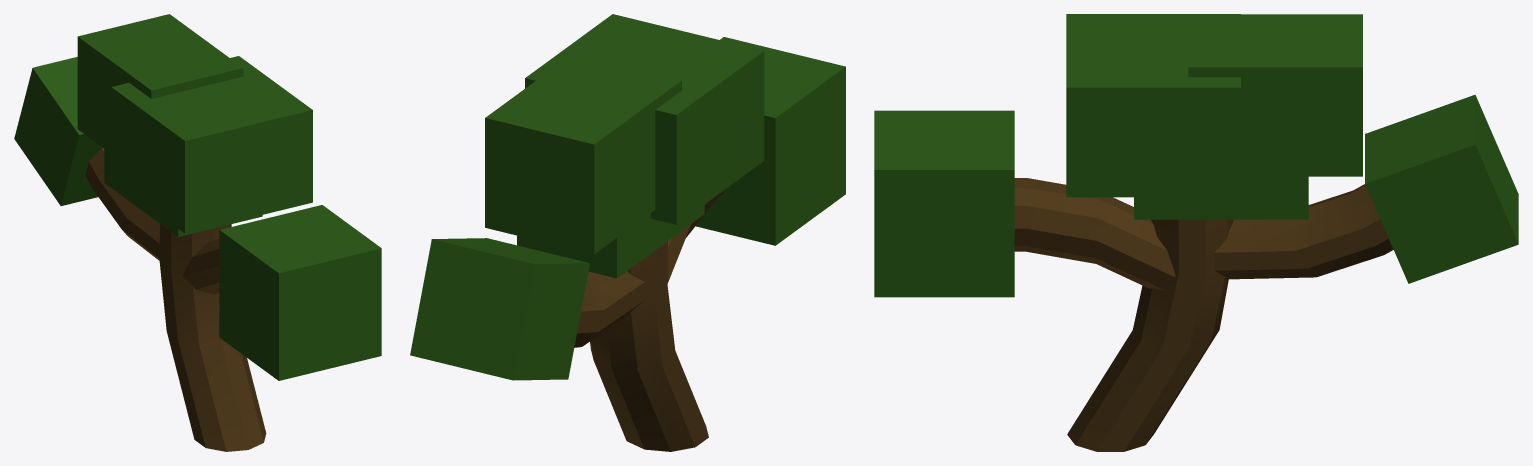
The model's file is Arbol_2.fbx.
3 renders of one model, left to right at view 1: azimuth 30°, elevation 25°; view 2: azimuth 150°, elevation 25°; view 3: azimuth 270°, elevation 25°, orthographic. The views are drawn at different scales.
Parts seen in each view (by area): view 1: arbol_2; view 2: arbol_2; view 3: arbol_2.
Part boxes in pixels (box(x1,y1,x2,y2)): arbol_2: box(14, 14, 381, 451); arbol_2: box(410, 14, 845, 451); arbol_2: box(874, 14, 1518, 451).
Size of the model in its own units: 153 by 382 by 567.
